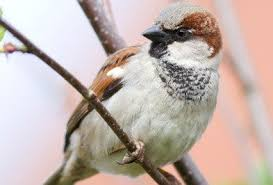hsparrow: (51, 3, 231, 185)
